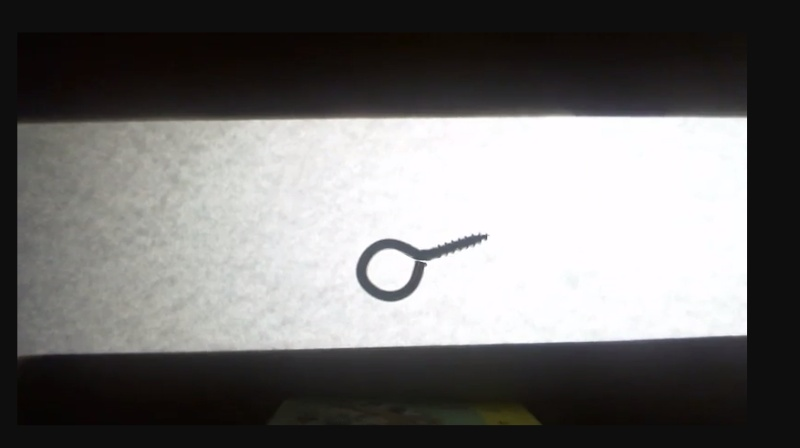O001: (351, 228, 492, 304)
